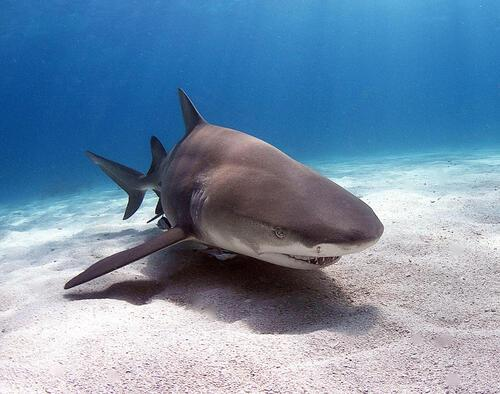shark: (63, 88, 384, 289)
